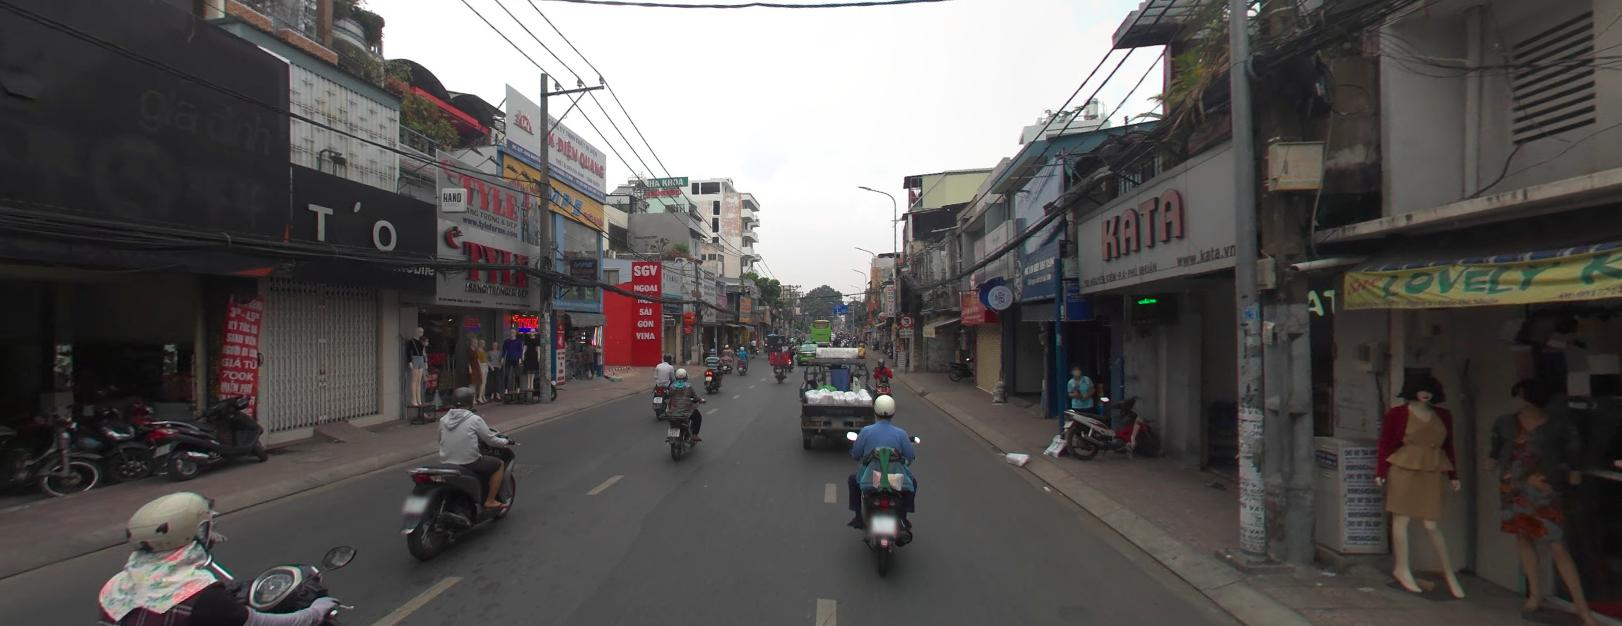Cam re: (900, 312, 913, 325)
